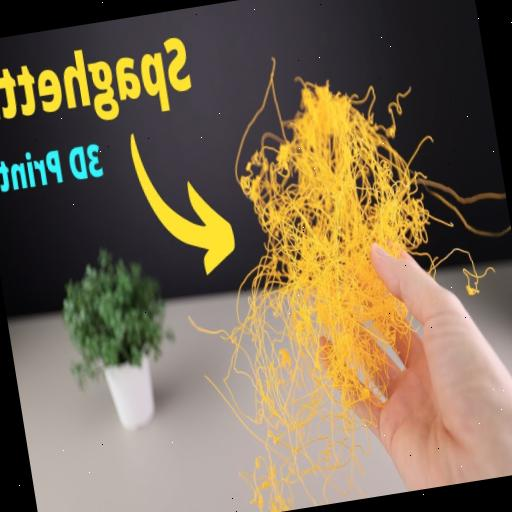spaghetti: (182, 24, 500, 502)
